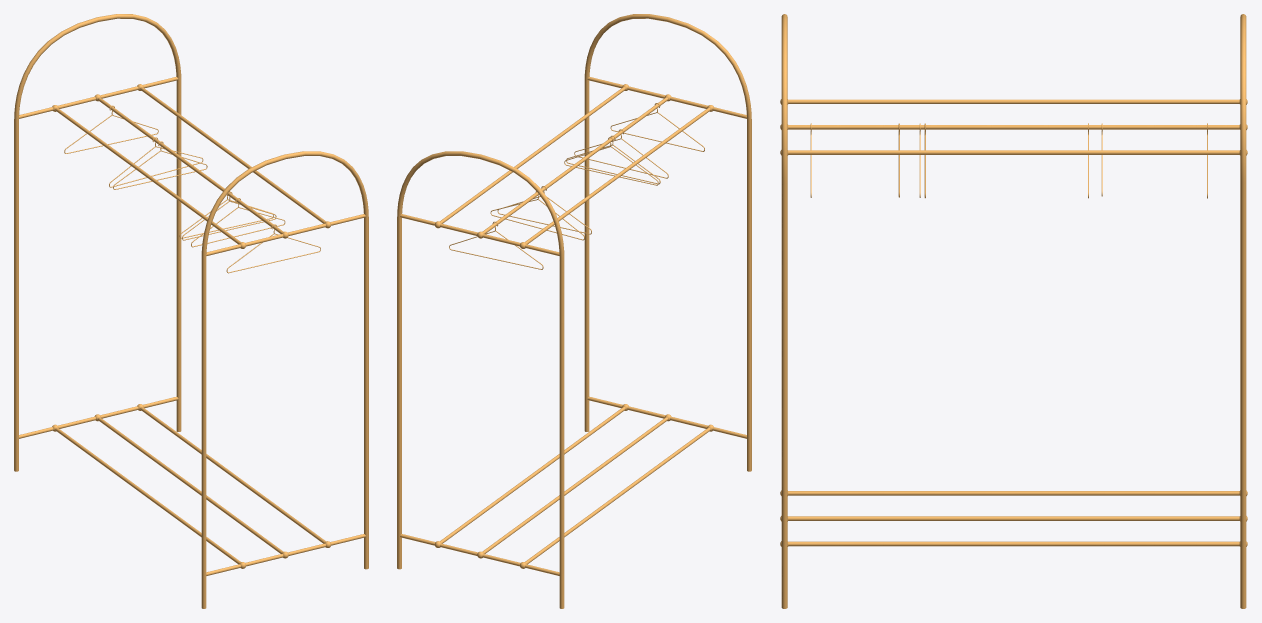
File: Final Rack 2.fbx
3 views of the same model, side by side, from view 1: azimuth 30°, elevation 25°; view 2: azimuth 150°, elevation 25°; view 3: azimuth 270°, elevation 25° (orthographic). The views are drawn at different scales.
Parts seen in each view (by area): view 1: BezierCurve, BezierCurve.001, Icosphere.003, Icosphere.002, Icosphere, Icosphere.004; view 2: BezierCurve.001, BezierCurve, Icosphere.003, Icosphere.002, Icosphere.004, Icosphere; view 3: Icosphere.003, Icosphere.002, BezierCurve.001, BezierCurve.
Part boxes in pixels (<box>): BezierCurve: <box>201,151,368,608</box>; BezierCurve.001: <box>14,14,181,471</box>; Icosphere.003: <box>55,87,325,564</box>; Icosphere.002: <box>97,97,283,553</box>; Icosphere: <box>206,214,365,575</box>; Icosphere.004: <box>19,76,178,438</box>; BezierCurve.001: <box>397,151,564,608</box>; BezierCurve: <box>584,14,751,471</box>; Icosphere.003: <box>440,87,710,564</box>; Icosphere.002: <box>482,97,668,553</box>; Icosphere.004: <box>400,214,559,575</box>; Icosphere: <box>587,76,746,438</box>; Icosphere.003: <box>788,99,1239,546</box>; Icosphere.002: <box>788,125,1239,520</box>; BezierCurve.001: <box>1240,14,1246,608</box>; BezierCurve: <box>781,14,787,608</box>.
Bounding box in the file's own units: 65.48 × 163 × 130.
